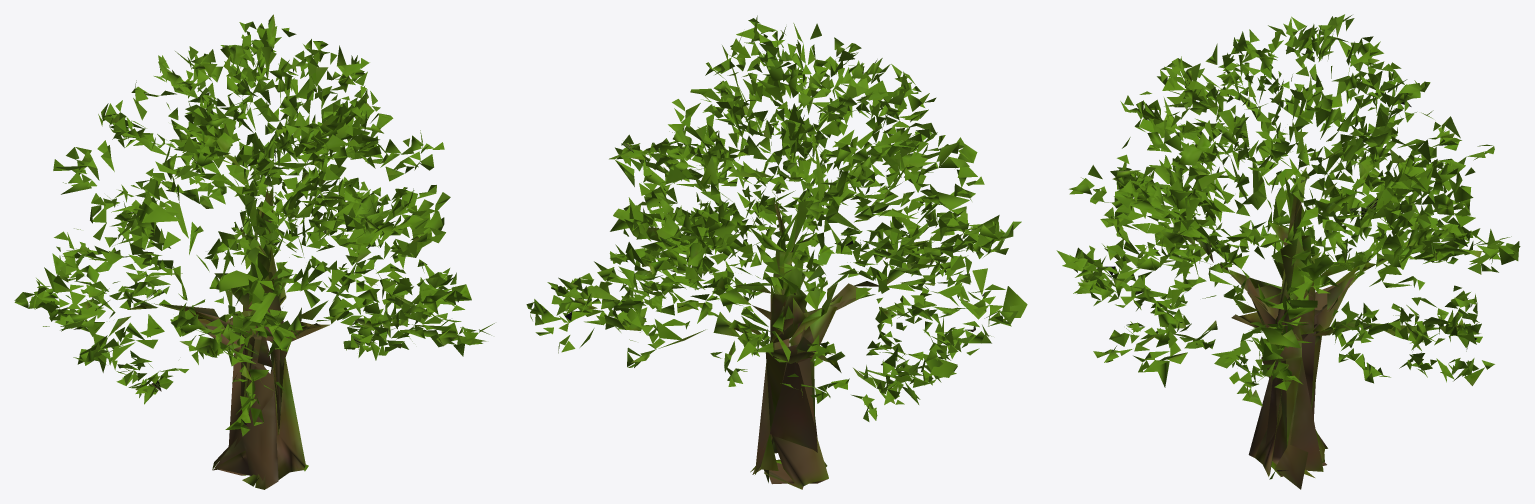
File: getkong-baum3-lo.glb
3 views of the same model, side by side, from view 1: azimuth 30°, elevation 25°; view 2: azimuth 150°, elevation 25°; view 3: azimuth 270°, elevation 25° (orthographic).
Parts seen in each view (by area): view 1: output_unwrapped; view 2: output_unwrapped; view 3: output_unwrapped.
Part boxes in pixels (box(x1,y1,x2,y2)): output_unwrapped: box(14, 14, 494, 489); output_unwrapped: box(526, 15, 1027, 489); output_unwrapped: box(1056, 14, 1520, 489).
Bounding box in the file's own units: 1.72 × 1.9 × 1.76.
1 material, 1 textured.
